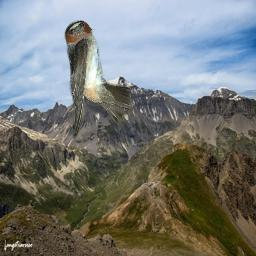Swallow: (64, 20, 131, 141)
